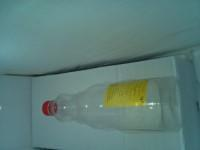bottle: (42, 76, 181, 134)
